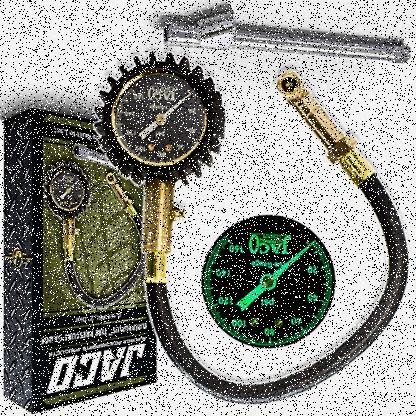needle: (162, 89, 195, 119)
